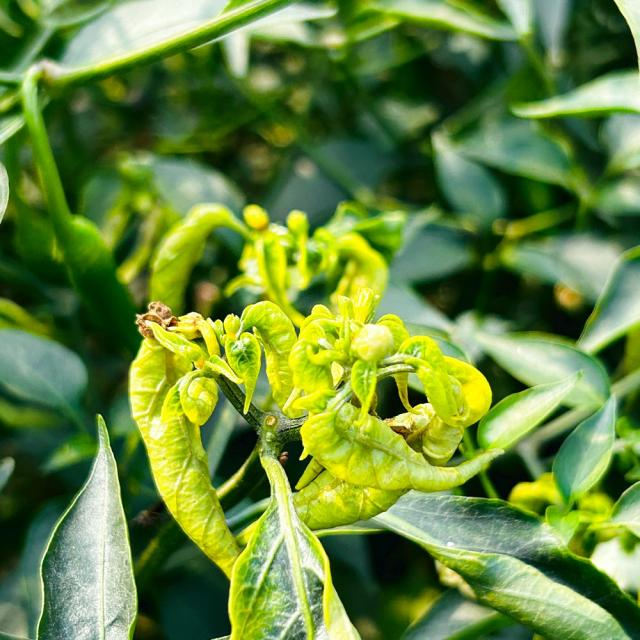Chilli_Leaf_Curl: (2, 1, 637, 638), (126, 200, 507, 637), (284, 286, 503, 529), (369, 488, 638, 638), (127, 302, 242, 580), (225, 416, 362, 639), (34, 413, 138, 639)
